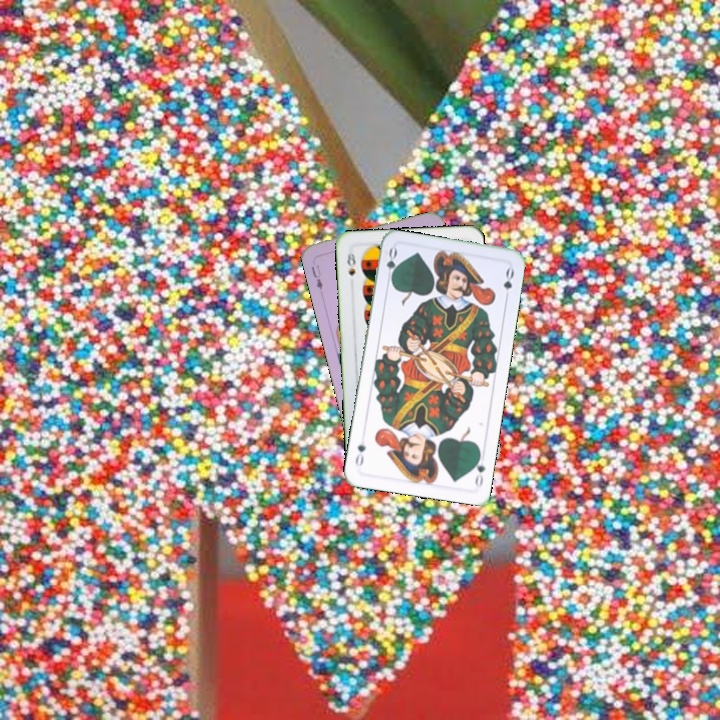EU: (307, 261, 325, 292)
GO: (469, 448, 488, 490), (382, 244, 400, 285)
S8: (343, 249, 358, 278)
